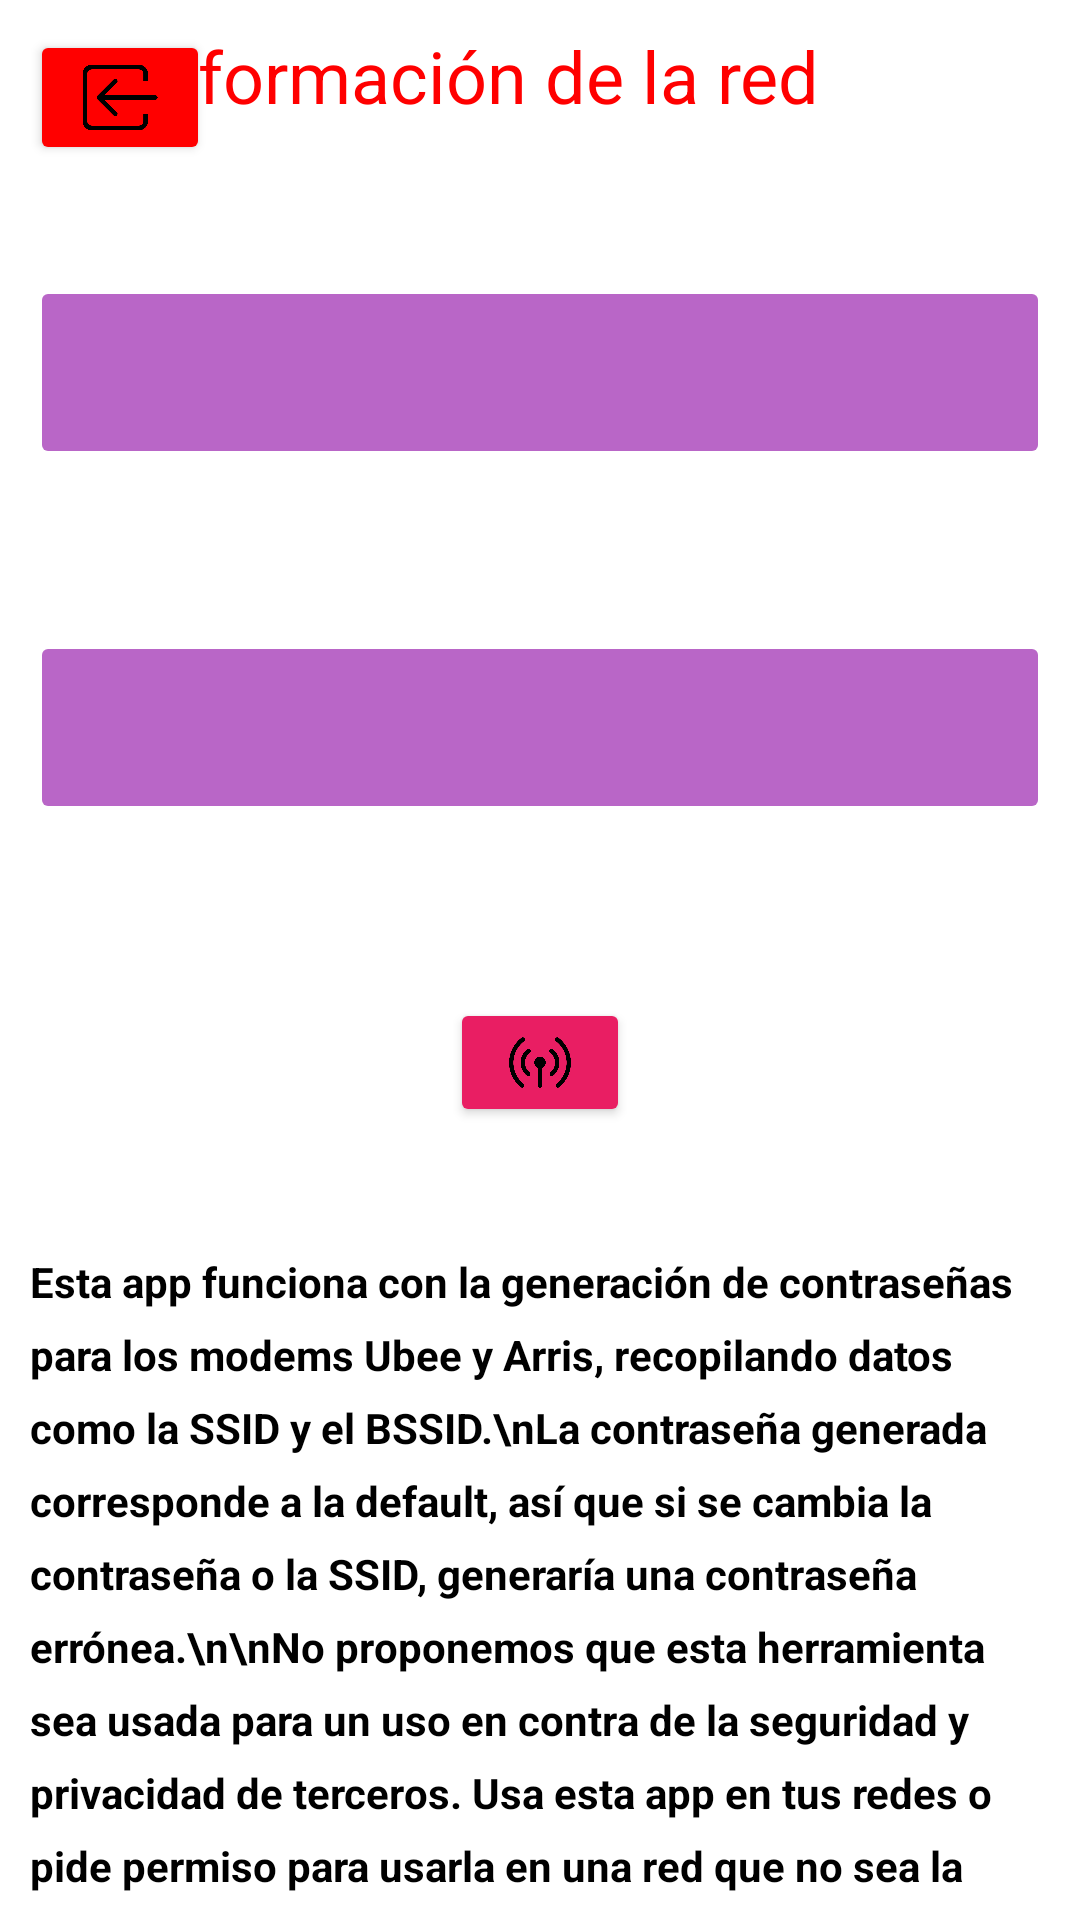

Screen size 1080*1920. Icon name, then its box in pixels as {"left": x1, "top": y1, "right": x2, "bottom": y2}:
connect: {"left": 462, "top": 1016, "right": 618, "bottom": 1112}
